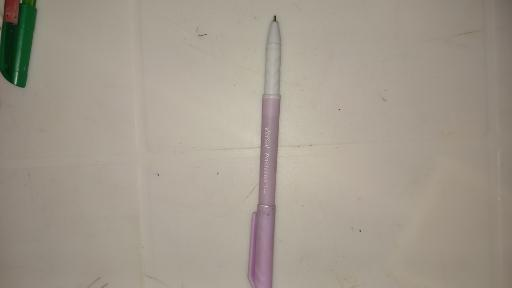pen: (247, 14, 284, 288)
